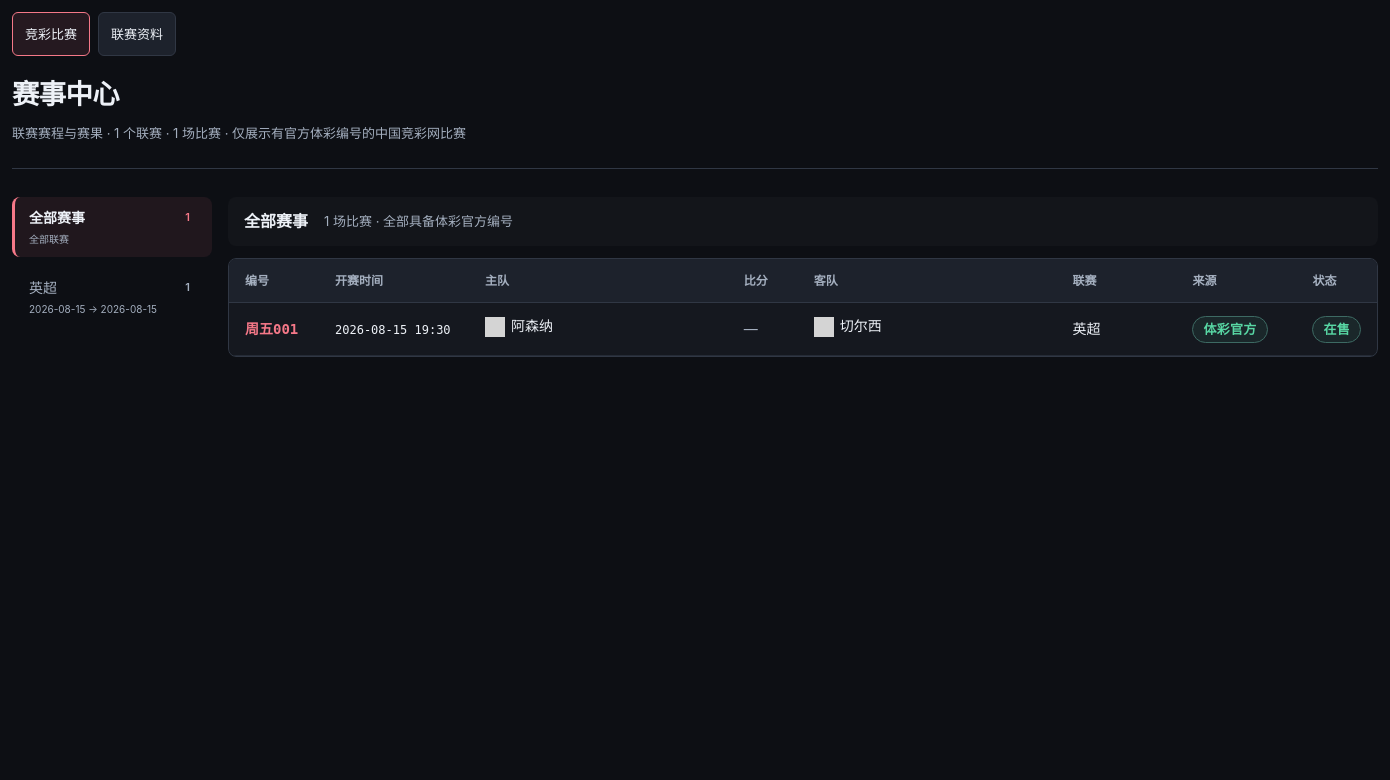
Test: EventsPage › switches views and restores the same-route league link on browser navigation
expect the text "阿森纳" is shown: met, box [511,315,553,338]
Step 1. Click the button "联赛资料" → (137, 34), box [98,12,176,56]
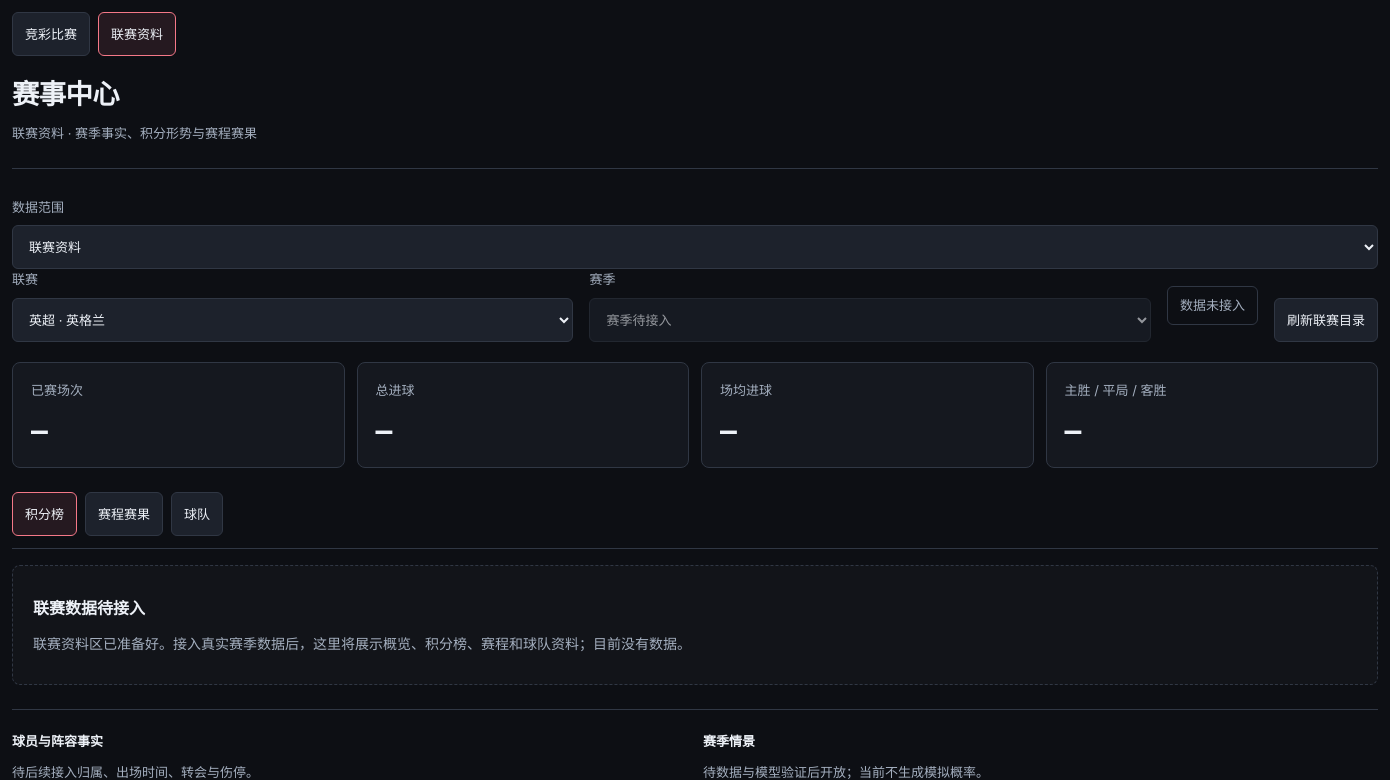
expect the heading "联赛数据待接入" is shown: met, box [33,598,145,618]
Step 2. Click the button "赛程赛果" → (124, 514), box [85,492,163,536]
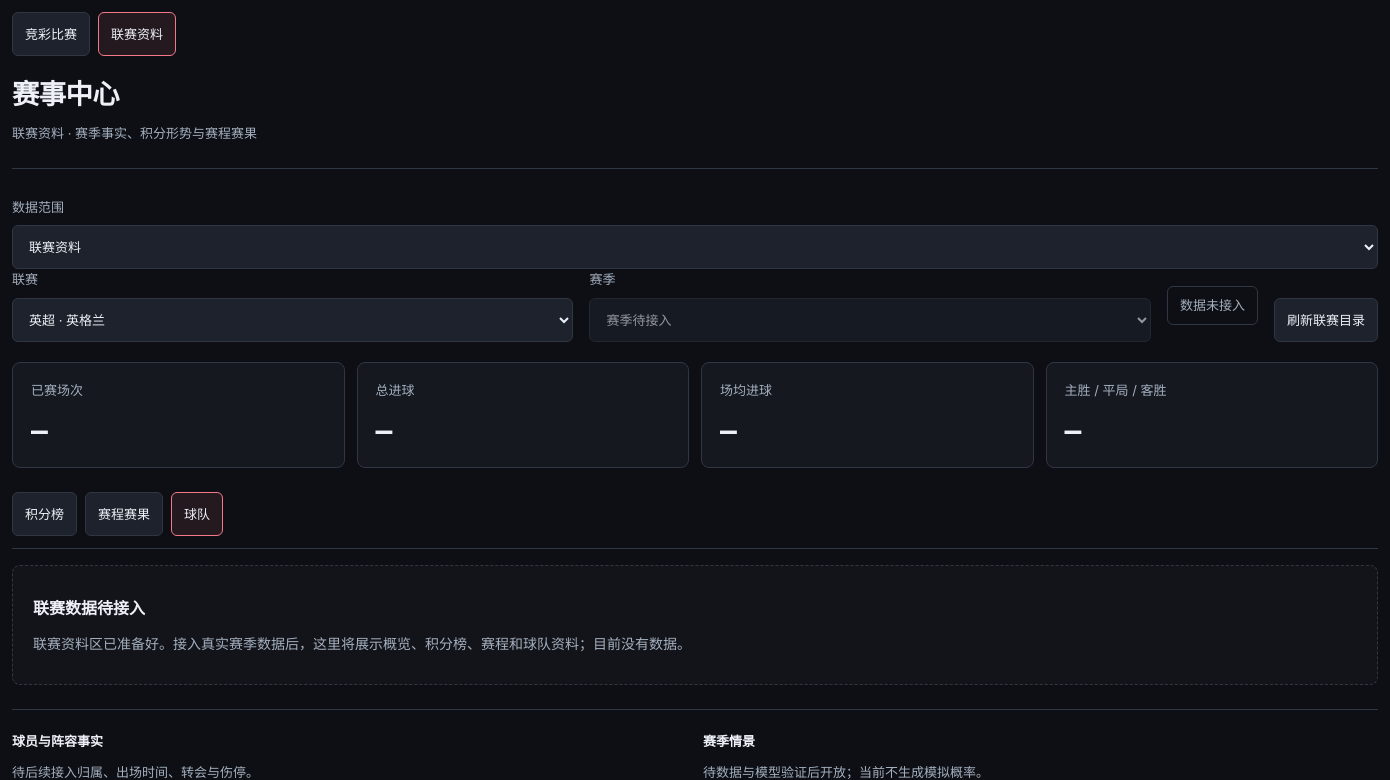
Step 3. Click the button "竞彩比赛" → (51, 34), box [12,12,90,56]
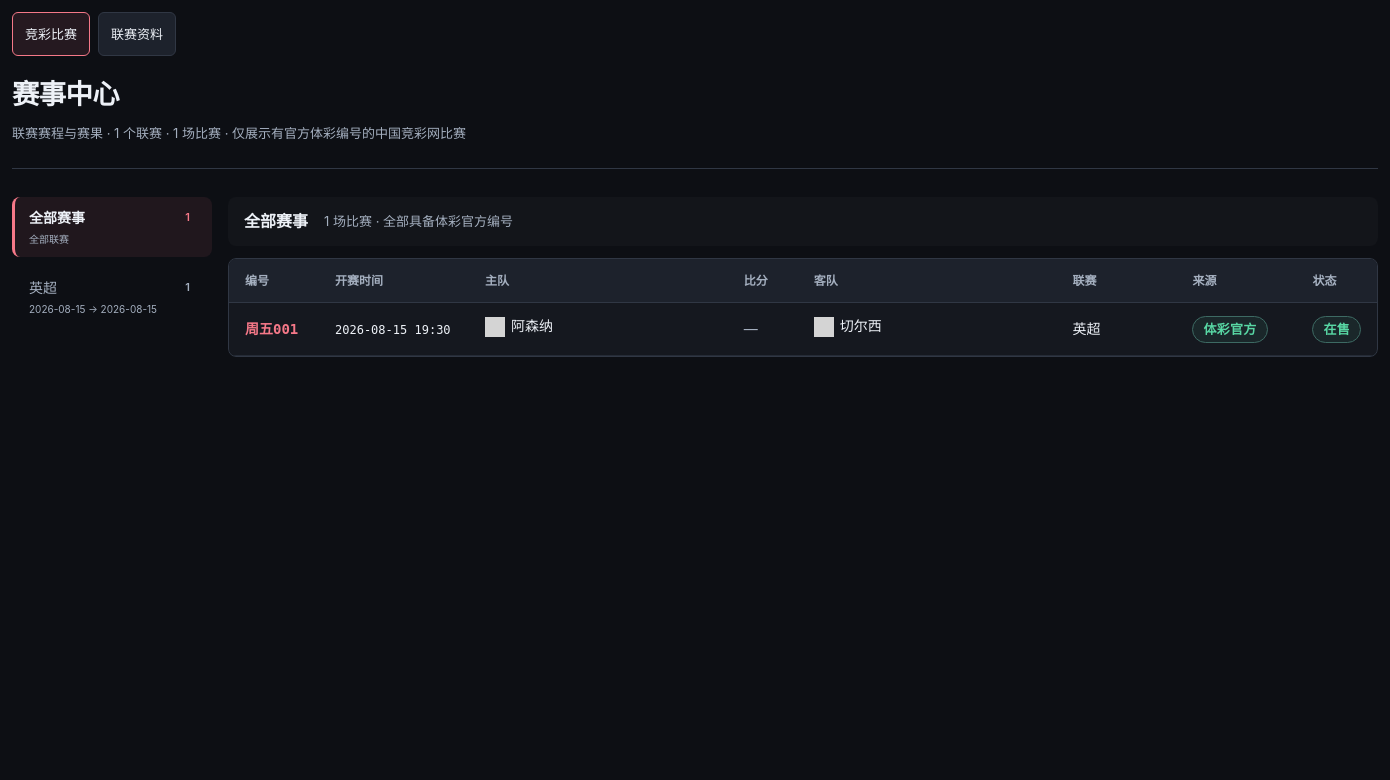
expect the text "阿森纳" is shown: met, box [511,315,553,338]
expect the text "体彩官方" is shown: met, box [1192,316,1268,343]
